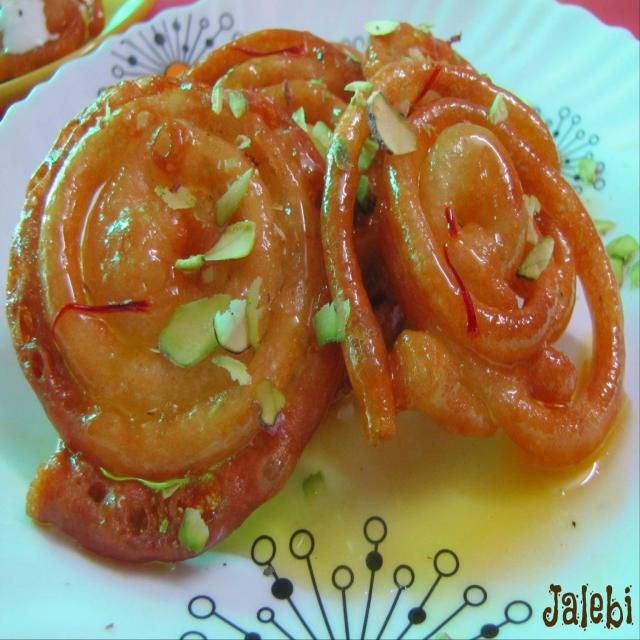jalebi: (18, 38, 602, 550)
